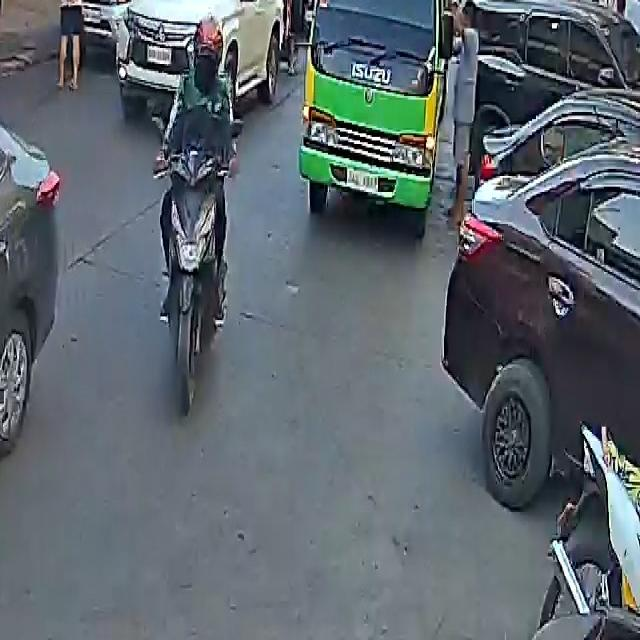car: (441, 64, 640, 523), (0, 41, 85, 635), (458, 0, 639, 194), (107, 0, 293, 110), (82, 0, 187, 36)
